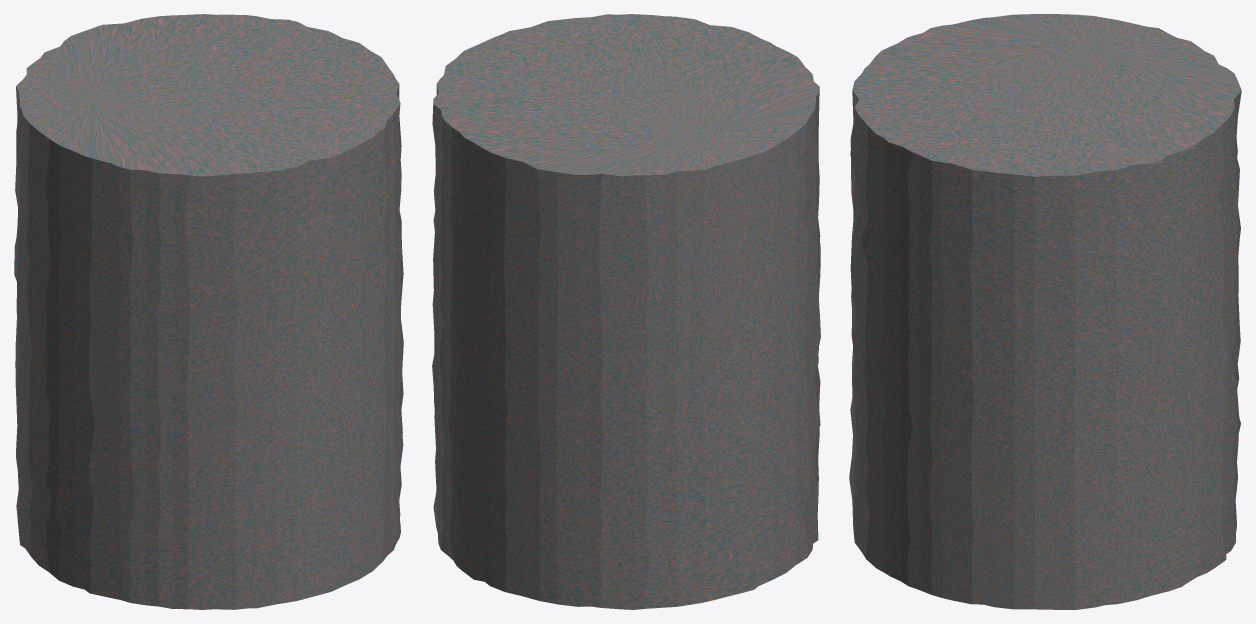
File: barrel_37.dae
The picture shows the model from 3 angles, left to right: view 1: azimuth 30°, elevation 25°; view 2: azimuth 150°, elevation 25°; view 3: azimuth 270°, elevation 25°; orthographic projection.
Parts seen in each view (by area): view 1: Cylinder; view 2: Cylinder; view 3: Cylinder.
Boxes of the visible parts, x1,y1,x2,y2 form: Cylinder: (14, 14, 403, 609); Cylinder: (432, 14, 820, 609); Cylinder: (849, 14, 1241, 609).
Size of the model in its own units: 0.8138 by 0.8187 by 1.
Materials: 1 (1 with a texture image).
